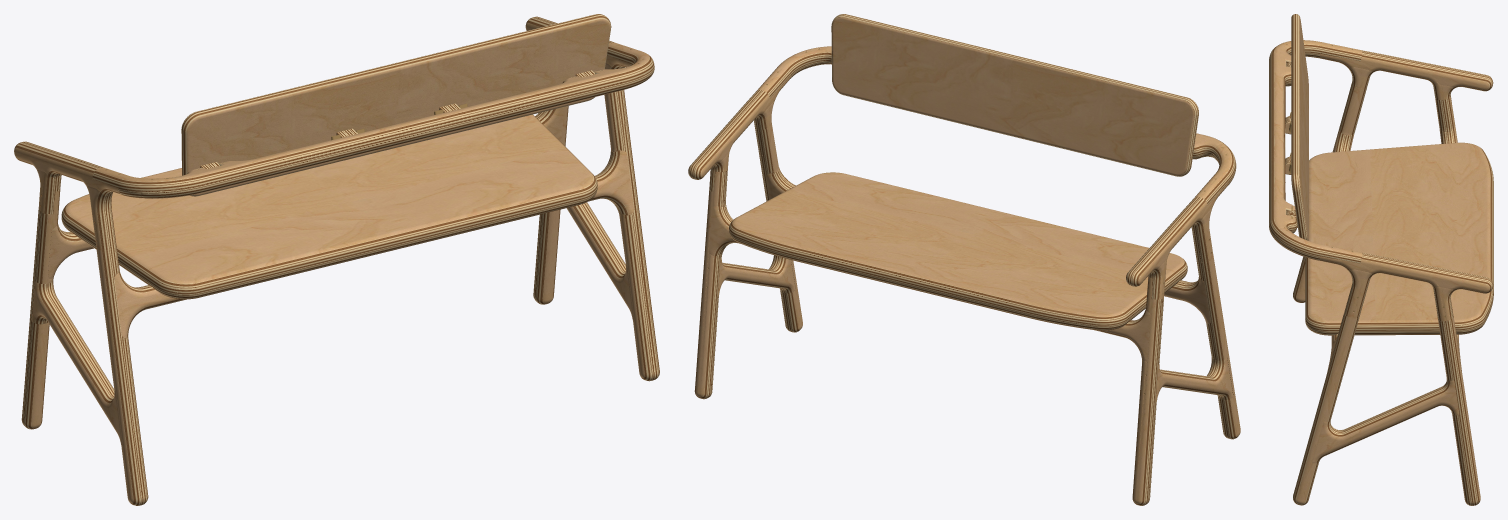
Rendered from settee.glb.
The picture shows the model from 3 angles, left to right: view 1: azimuth 30°, elevation 25°; view 2: azimuth 150°, elevation 25°; view 3: azimuth 270°, elevation 25°; orthographic projection. The views are drawn at different scales.
Parts seen in each view (by area): view 1: Gazelle_Settee; view 2: Gazelle_Settee; view 3: Gazelle_Settee.
Boxes of the visible parts, bbox=[...] form: Gazelle_Settee: bbox=[14, 14, 659, 505]; Gazelle_Settee: bbox=[688, 14, 1240, 505]; Gazelle_Settee: bbox=[1269, 14, 1493, 505].
Size of the model in its own units: 1.2 by 0.8307 by 0.5469.
Materials: 3 (2 with a texture image).
